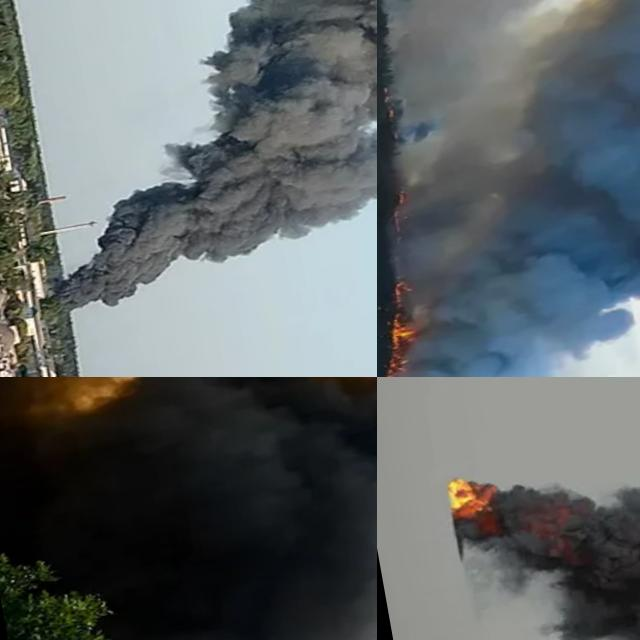smoke: (0, 0, 377, 317), (377, 0, 640, 377), (30, 377, 377, 640), (446, 385, 640, 640)
